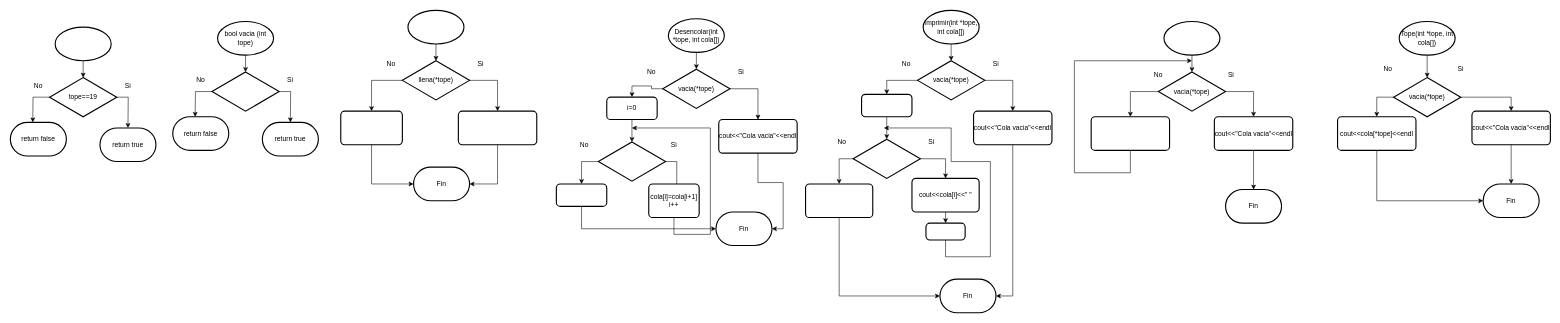
Some shapes in this 1560 by 323 pixel diagram are drawn without their labels. Each missing label, with the centre of its shape:
(*tope)++ cola[*tope]=valor: (x=371, y=127)
(*tope)--: (x=581, y=195)
bool llena (int tope): (x=82, y=43)
cola[*tope]=-1 (*tope)--: (x=1130, y=133)
cout<<"Cola llena"<<endl: (x=497, y=127)
cout<<"Cola:" i=0: (x=886, y=105)
cout<<endl<<"Fin"<<endl: (x=839, y=200)
Encolar (int *tope, int valor, int cola[]): (x=435, y=27)
i++: (x=945, y=231)
i<(*tope): (x=632, y=161)
i<=(*tope): (x=886, y=158)
Limpiar(int *tope, int cola[]): (x=1191, y=38)
tope==-1: (x=245, y=91)
